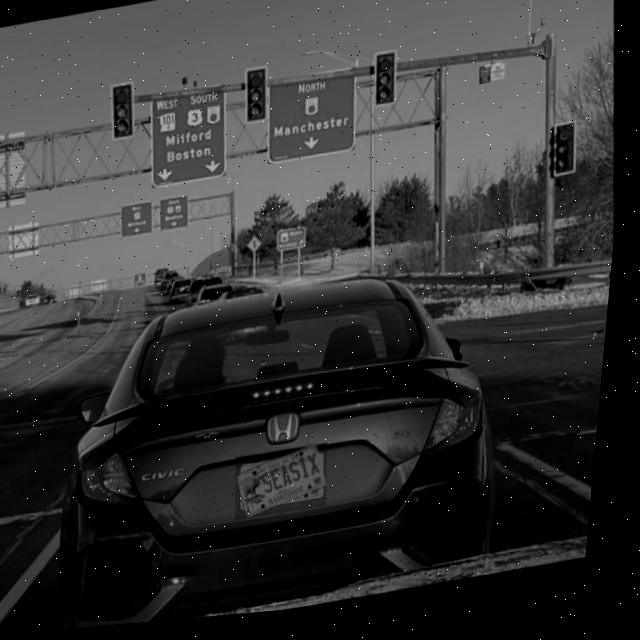LicensePlate: (245, 450, 336, 524)
